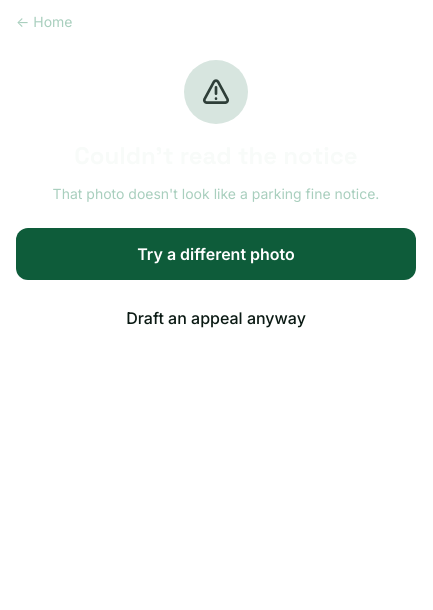
Test: NoticeLookup: capture and reading › a reading error shows the message, and "Try a different photo" goes back to capture
Earlier steps of the test are not shown.
Expected: the message reads "That photo doesn't look like a parking fine notice.", [53,185,379,202]
Step 1. Click the button "Try a different photo" → [216, 254], box [16,228,416,280]
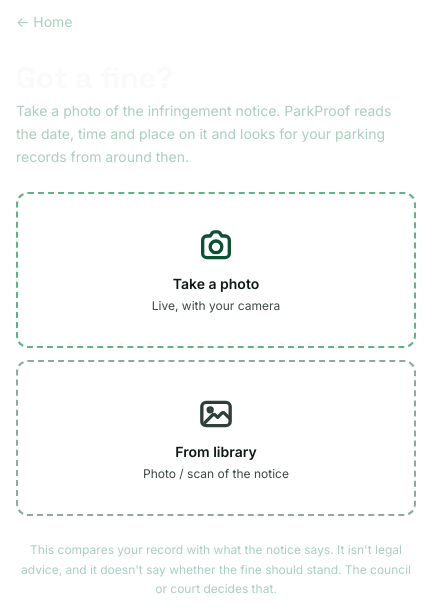
Now the text "Take a photo of the infringement notice. ParkProof reads the date, time and place on it and looks for your parking recor" is shown, box [16,102,391,164]
